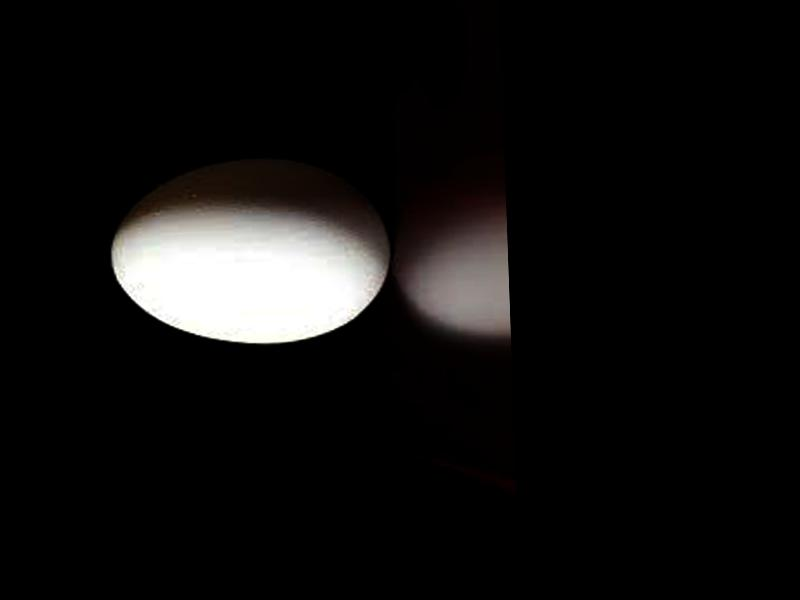Eggs: (107, 155, 394, 348)
